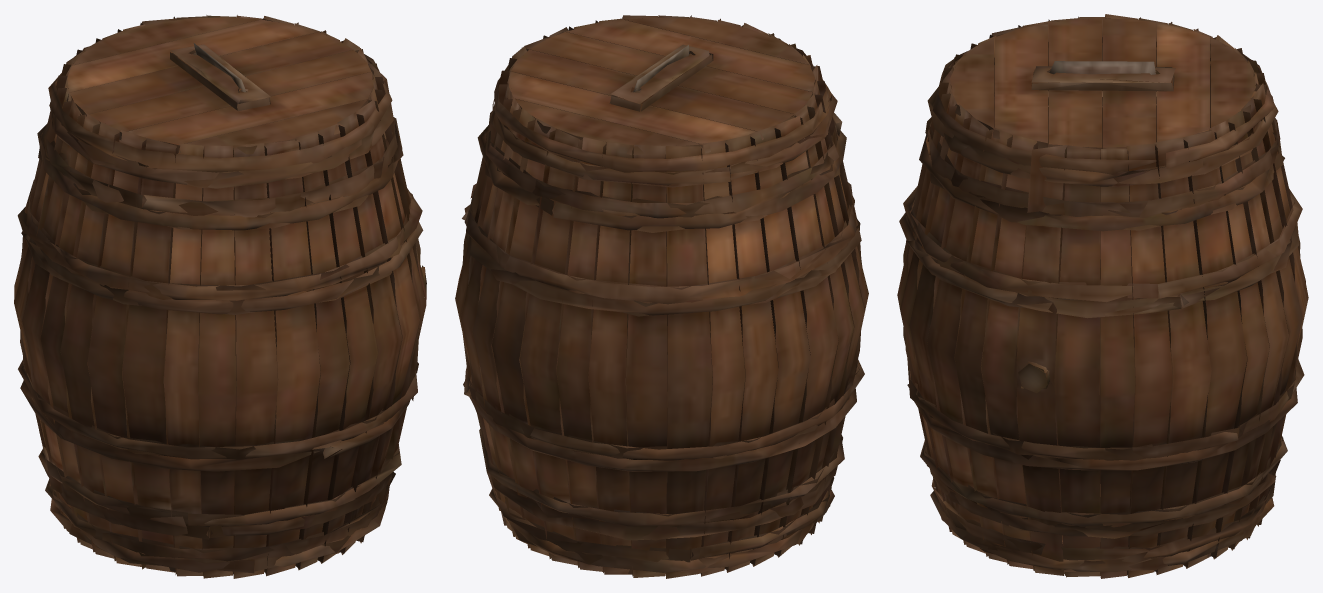
Rendered from barrel_old.glb.
The picture shows the model from 3 angles, left to right: view 1: azimuth 30°, elevation 25°; view 2: azimuth 150°, elevation 25°; view 3: azimuth 270°, elevation 25°; orthographic projection.
Parts seen in each view (by area): view 1: wooden_barrels_01_barrel01; view 2: wooden_barrels_01_barrel01; view 3: wooden_barrels_01_barrel01.
Boxes of the visible parts, x1,y1,x2,y2 form: wooden_barrels_01_barrel01: (14,15,426,578); wooden_barrels_01_barrel01: (455,15,868,578); wooden_barrels_01_barrel01: (897,14,1308,578).
Bounding box in the file's own units: 0.7616 × 0.9185 × 0.7616.
1 material, 1 textured.
